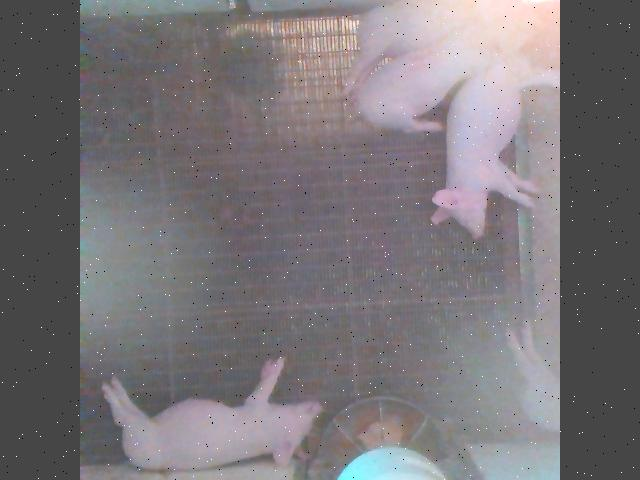pig-4: (356, 2, 533, 131)
